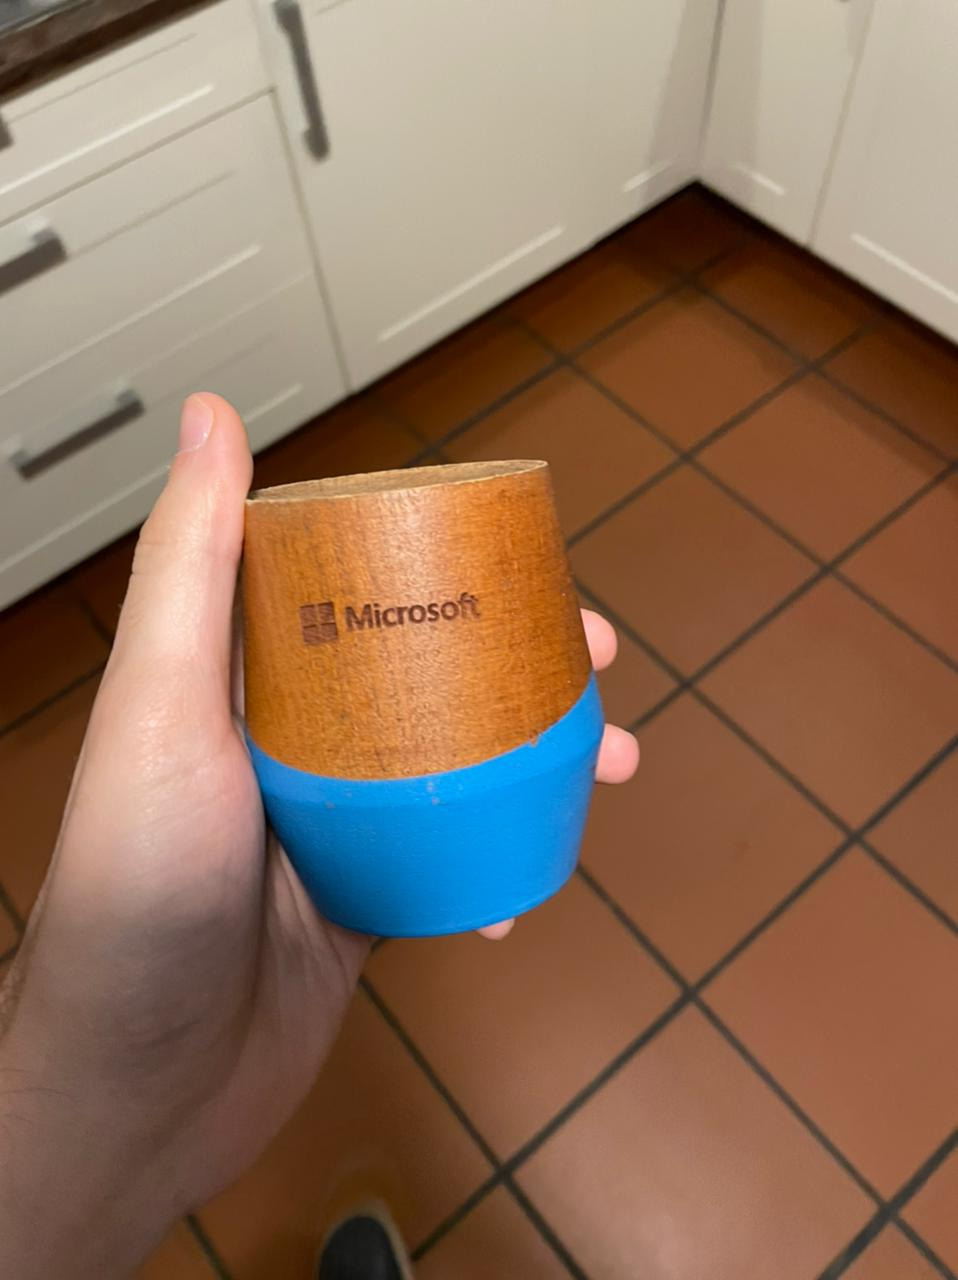madera: (235, 450, 611, 945)
mate: (233, 448, 609, 943)
